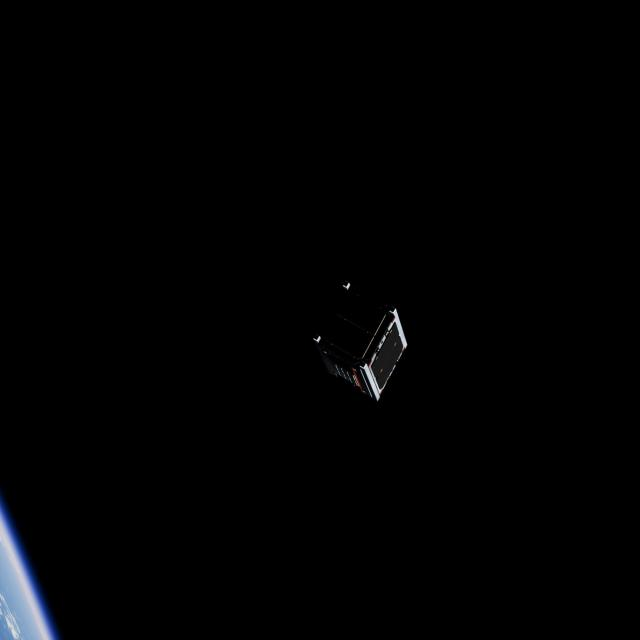medium_debris: (310, 275, 410, 402)
